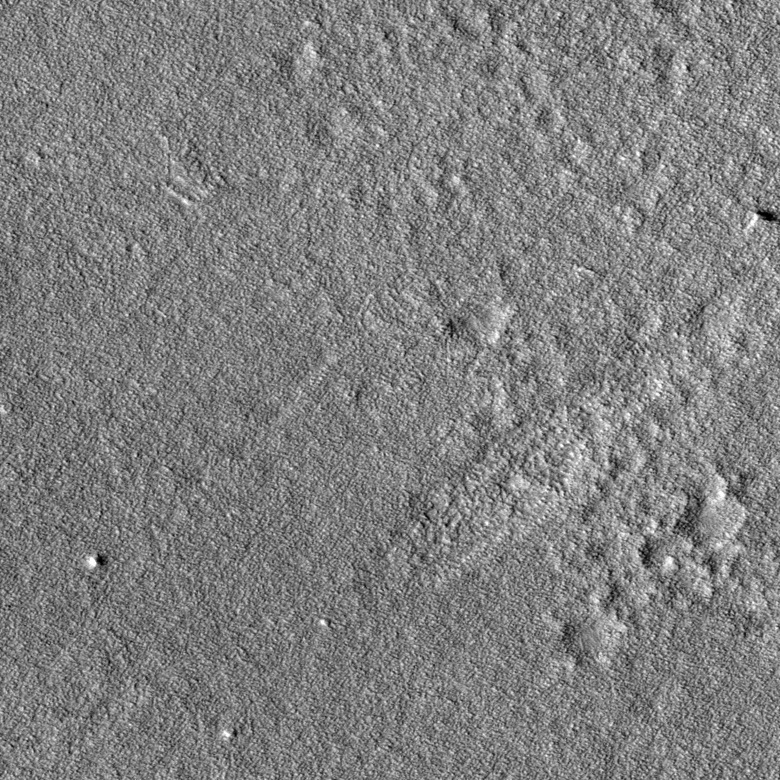dust_devil: (742, 208, 780, 231)
